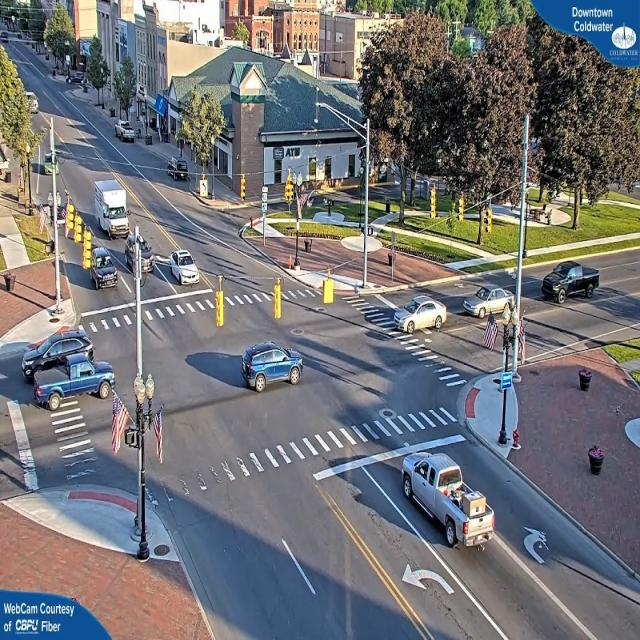car: (398, 449, 491, 556), (34, 356, 115, 406), (238, 342, 302, 394), (22, 329, 88, 369), (541, 261, 602, 301), (393, 294, 444, 332), (166, 251, 200, 287), (125, 235, 153, 278), (90, 251, 118, 288), (166, 160, 189, 180), (116, 123, 136, 143)
truck: (96, 173, 132, 239)
